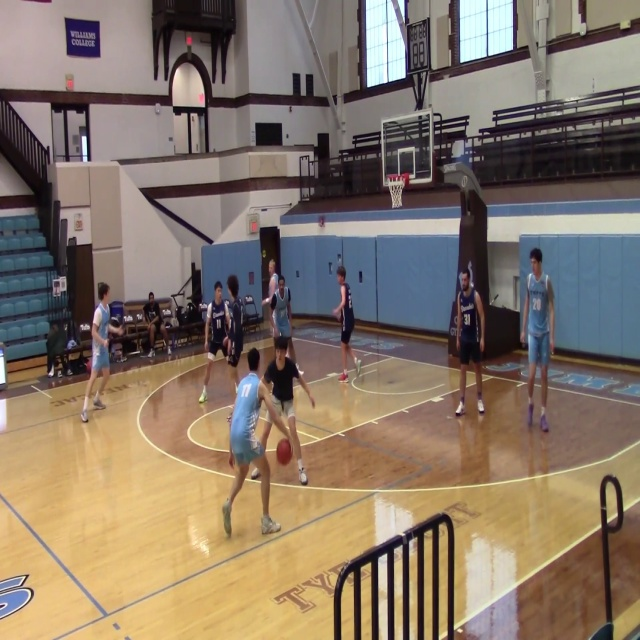Basketball: (276, 438, 292, 466)
